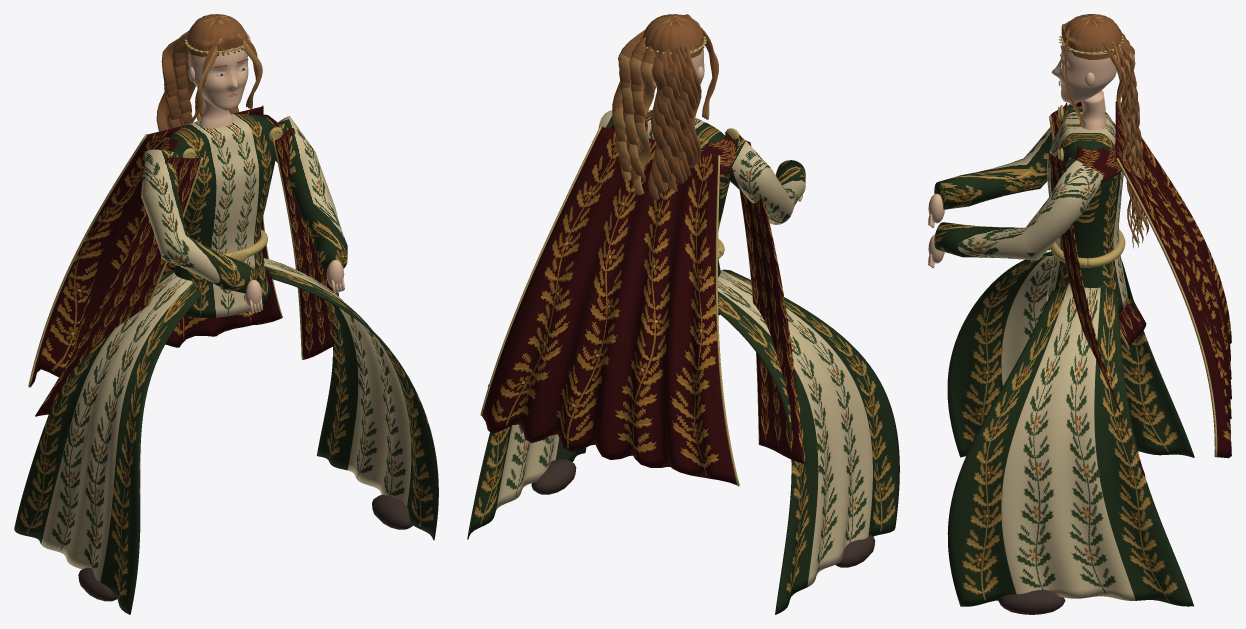
The model's file is princess-v11-mounted.glb.
The picture shows the model from 3 angles, left to right: view 1: azimuth 30°, elevation 25°; view 2: azimuth 150°, elevation 25°; view 3: azimuth 270°, elevation 25°; orthographic projection.
Parts seen in each view (by area): view 1: MorrisPrincess_surface, cape_surface, body_surface, head_surface, armL_surface, armR_surface; view 2: cape_surface, MorrisPrincess_surface, head_surface, armL_surface, body_surface; view 3: MorrisPrincess_surface, cape_surface, body_surface, head_surface, armR_surface, armL_surface.
Part boxes in pixels (left/top/right/bottom): MorrisPrincess_surface: left=14, top=258, right=438, bottom=614; cape_surface: left=28, top=105, right=338, bottom=416; body_surface: left=170, top=95, right=282, bottom=317; head_surface: left=156, top=14, right=262, bottom=142; armL_surface: left=141, top=149, right=262, bottom=313; armR_surface: left=275, top=116, right=347, bottom=293; cape_surface: left=480, top=110, right=803, bottom=486; MorrisPrincess_surface: left=467, top=269, right=899, bottom=614; head_surface: left=612, top=14, right=718, bottom=200; armL_surface: left=723, top=138, right=805, bottom=224; body_surface: left=646, top=109, right=739, bottom=315; MorrisPrincess_surface: left=947, top=251, right=1194, bottom=614; cape_surface: left=1049, top=101, right=1231, bottom=476; body_surface: left=1046, top=90, right=1127, bottom=312; head_surface: left=1051, top=14, right=1149, bottom=248; armR_surface: left=928, top=157, right=1104, bottom=268; armL_surface: left=928, top=102, right=1077, bottom=227.
Bounding box in the file's own units: 0.948 × 1.46 × 0.767.
10 materials, 2 textured.
